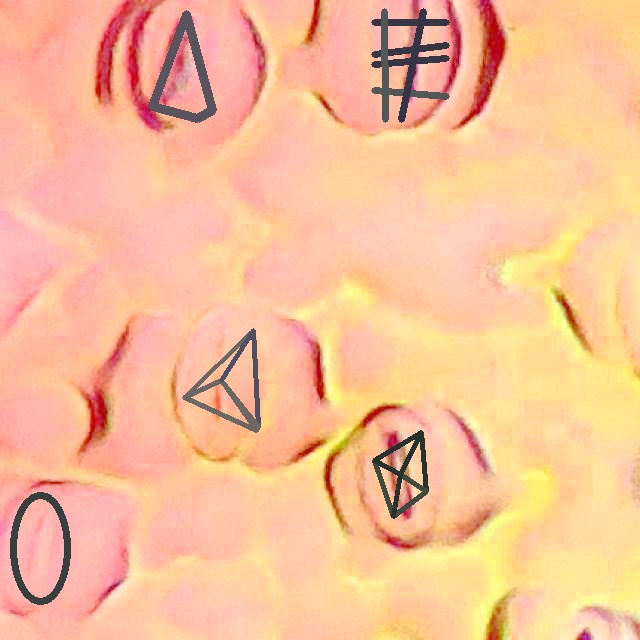close: (182, 328, 260, 431), (10, 491, 71, 606)
open: (371, 8, 449, 122), (148, 11, 216, 122), (373, 431, 428, 518)
